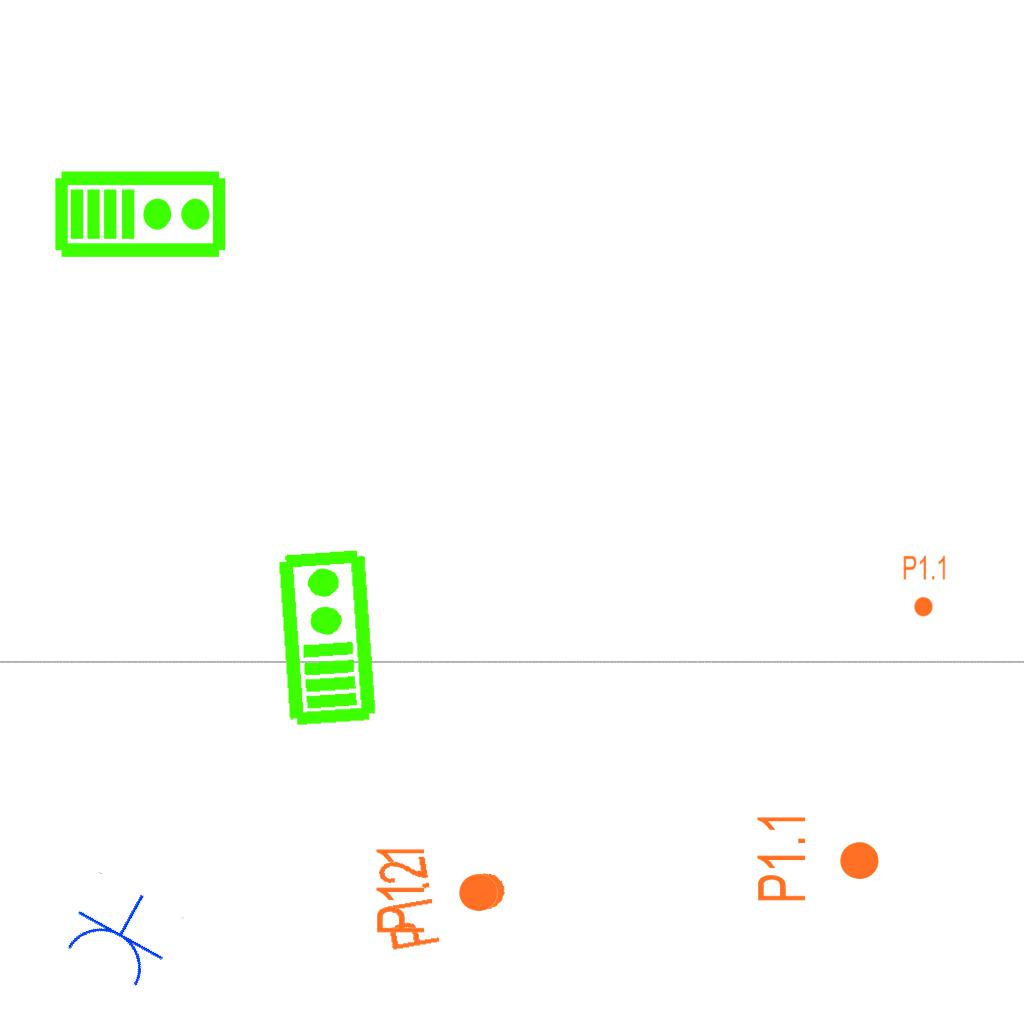Downlight_LED_Einbauleuchten_Flur: (373, 840, 516, 954), (754, 811, 882, 904), (373, 843, 501, 936), (902, 554, 948, 618)
Gegensprechanlage_mit_Video: (271, 545, 380, 729), (53, 165, 229, 260)
Schukosteckdose_einfach: (56, 870, 186, 995)
